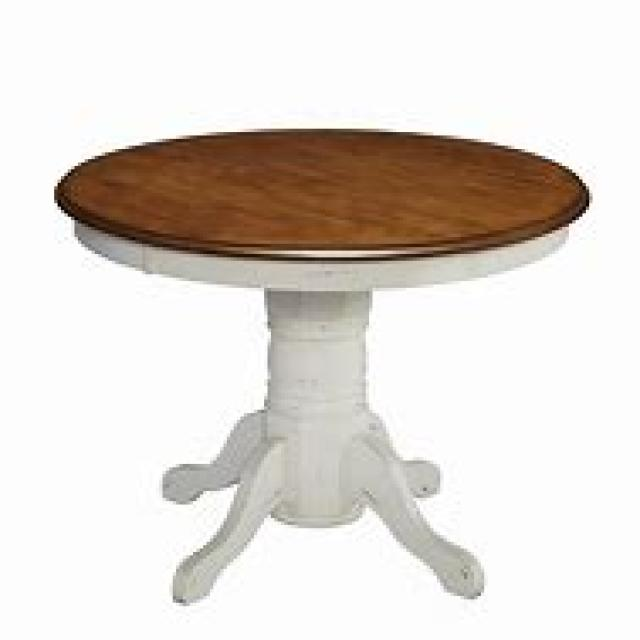table: (51, 125, 589, 606)
